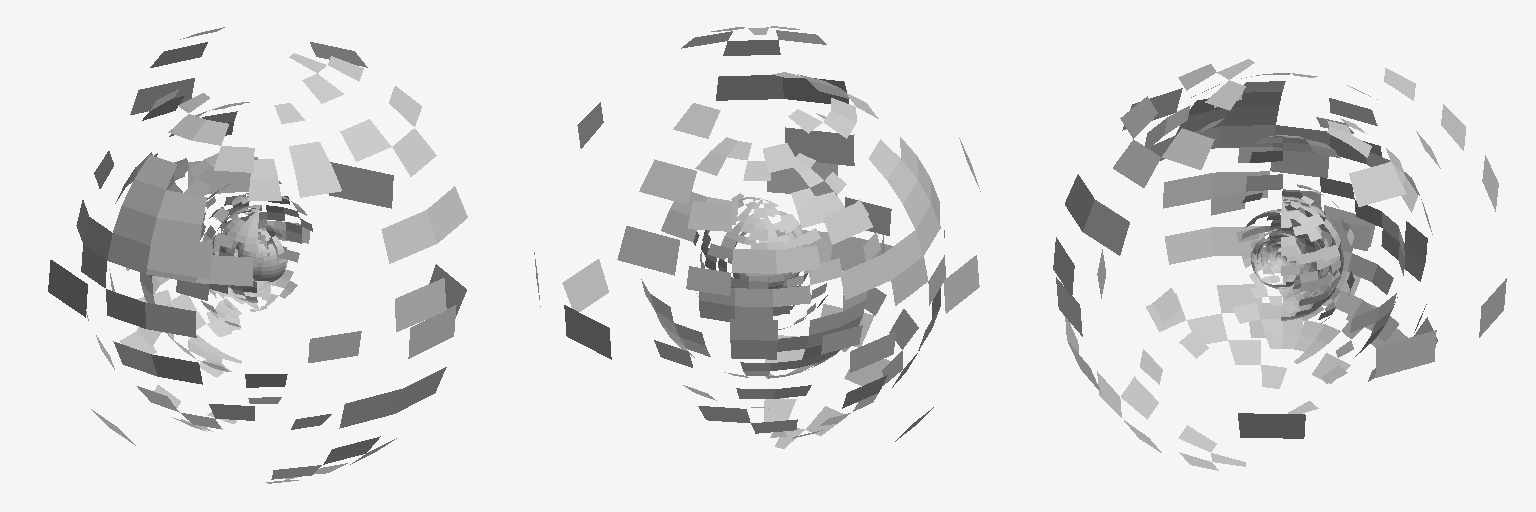
Rendered from NestedBrokenSphere.obj.
3 renders of one model, left to right at view 1: azimuth 30°, elevation 25°; view 2: azimuth 150°, elevation 25°; view 3: azimuth 270°, elevation 25°, orthographic.
Parts seen in each view (by area): view 1: Sphere14, Sphere17, Sphere18, Sphere12, Sphere13, Sphere6, Sphere7, Sphere10, Sphere4; view 2: Sphere14, Sphere17, Sphere13, Sphere12, Sphere18, Sphere6, Sphere10, Sphere7; view 3: Sphere14, Sphere17, Sphere12, Sphere18, Sphere13, Sphere6, Sphere10, Sphere7, Sphere5, Sphere4.
Boxes of the visible parts, <box> form: Sphere14: <box>76,89,361,431</box>; Sphere17: <box>130,27,467,331</box>; Sphere18: <box>48,234,456,483</box>; Sphere12: <box>140,153,309,371</box>; Sphere13: <box>109,102,287,403</box>; Sphere6: <box>200,193,312,311</box>; Sphere7: <box>212,205,262,302</box>; Sphere10: <box>201,181,289,327</box>; Sphere4: <box>253,224,285,282</box>; Sphere14: <box>687,72,945,438</box>; Sphere17: <box>534,26,854,359</box>; Sphere13: <box>654,113,886,408</box>; Sphere12: <box>641,153,884,378</box>; Sphere18: <box>764,138,980,448</box>; Sphere6: <box>700,197,808,315</box>; Sphere10: <box>693,193,838,329</box>; Sphere7: <box>718,211,809,288</box>; Sphere14: <box>1097,73,1440,413</box>; Sphere17: <box>1053,59,1506,438</box>; Sphere12: <box>1211,135,1404,363</box>; Sphere18: <box>1056,88,1302,470</box>; Sphere13: <box>1152,117,1432,383</box>; Sphere6: <box>1281,196,1343,320</box>; Sphere10: <box>1237,183,1354,323</box>; Sphere7: <box>1241,209,1329,299</box>; Sphere5: <box>1269,220,1320,298</box>; Sphere4: <box>1251,229,1303,288</box>.
Bounding box in the file's own units: 95.11 × 96.97 × 96.87.